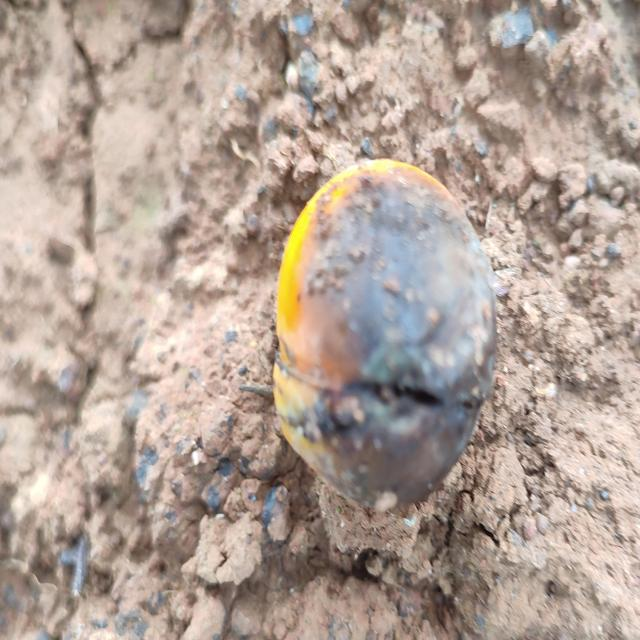damaged: (273, 159, 496, 511)
